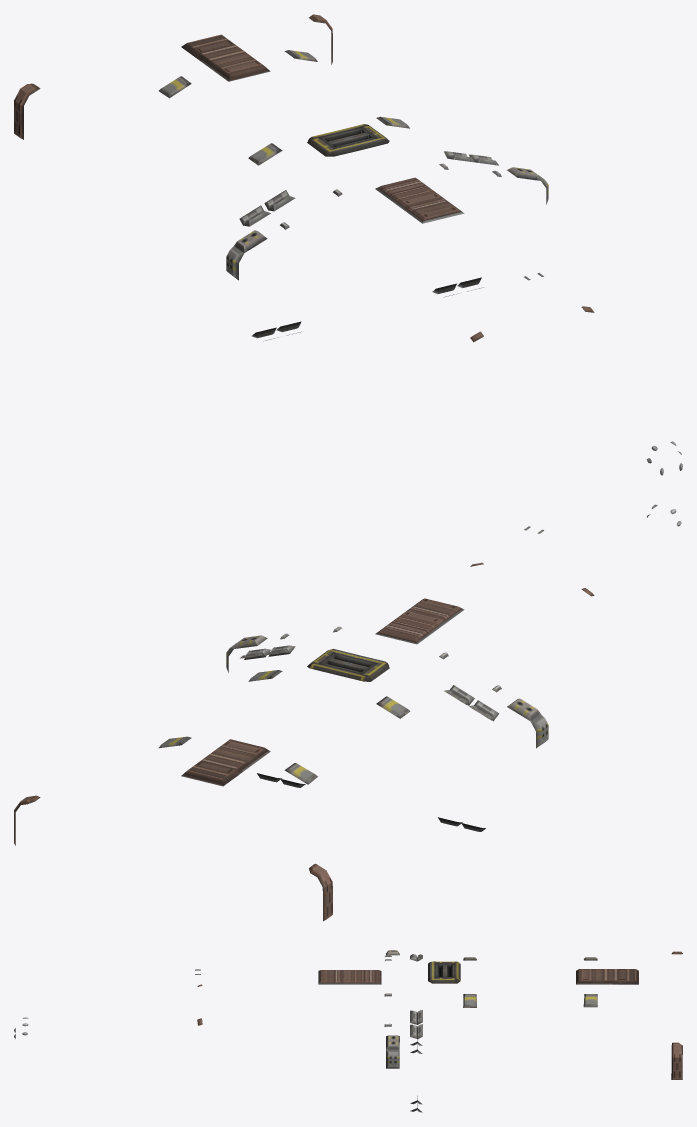
The model's file is tan_civ_04.glb.
3 views of the same model, one above another, from view 1: azimuth 30°, elevation 25°; view 2: azimuth 150°, elevation 25°; view 3: azimuth 270°, elevation 25° (orthographic). The views are drawn at different scales.
Visible parts, largest first — view 1: tan_civ_04_LOD0; view 2: tan_civ_04_LOD0; view 3: tan_civ_04_LOD0.
Part boxes in pixels (box(x1,y1,x2,y2)): tan_civ_04_LOD0: box(14, 14, 682, 475); tan_civ_04_LOD0: box(14, 504, 681, 921); tan_civ_04_LOD0: box(14, 950, 682, 1112).
Size of what is drawn, in the model's own units: 2.74 by 1.32 by 7.56.
Materials: 1 (1 with a texture image).
